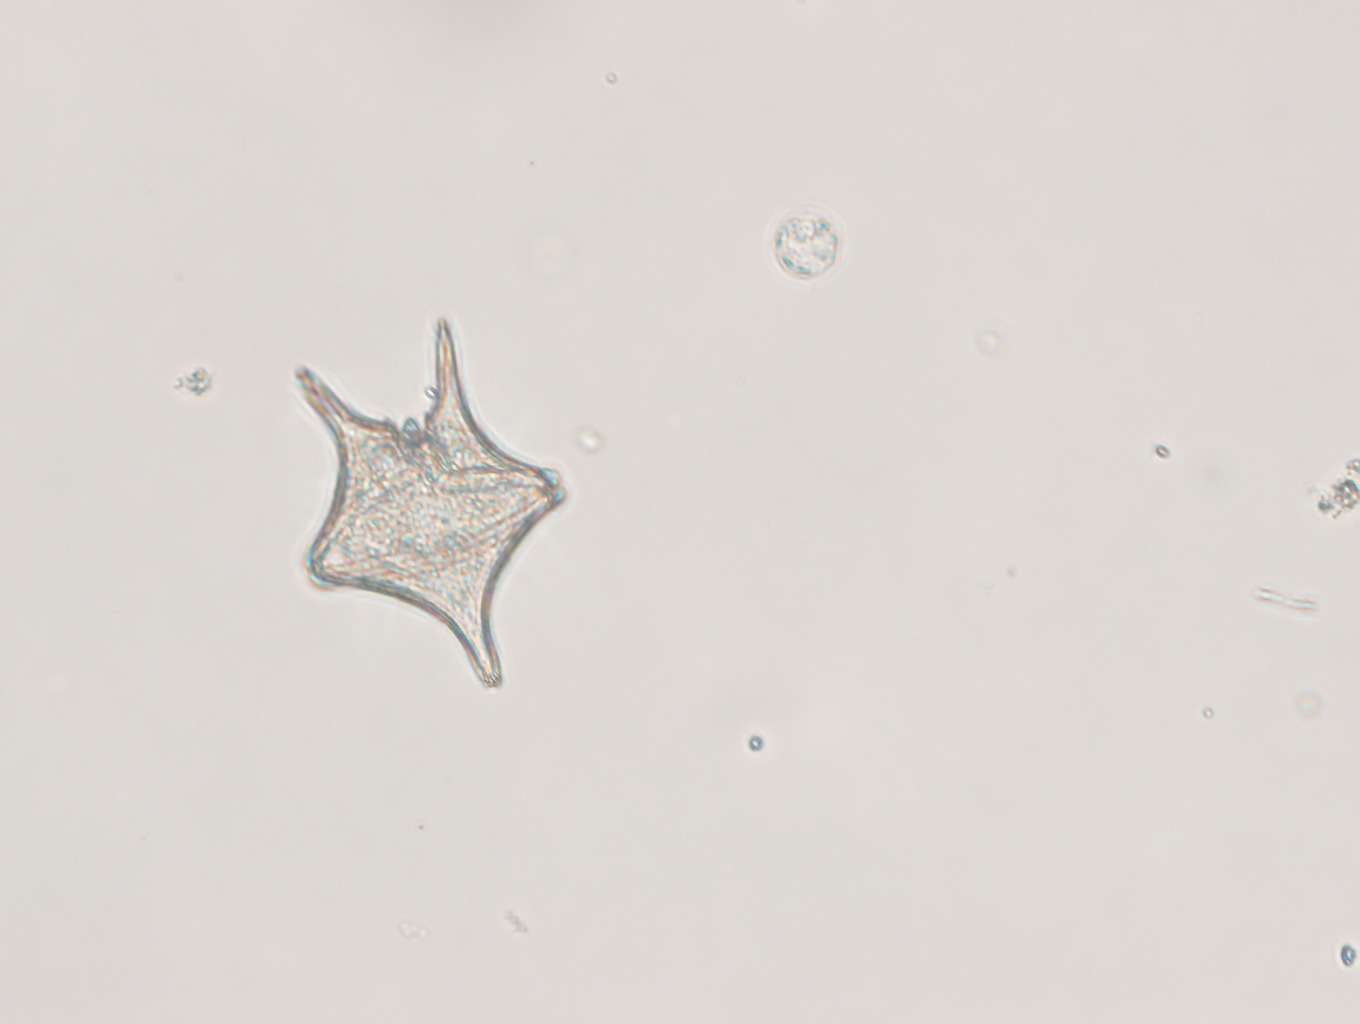protoperidinium: (294, 317, 571, 689)
